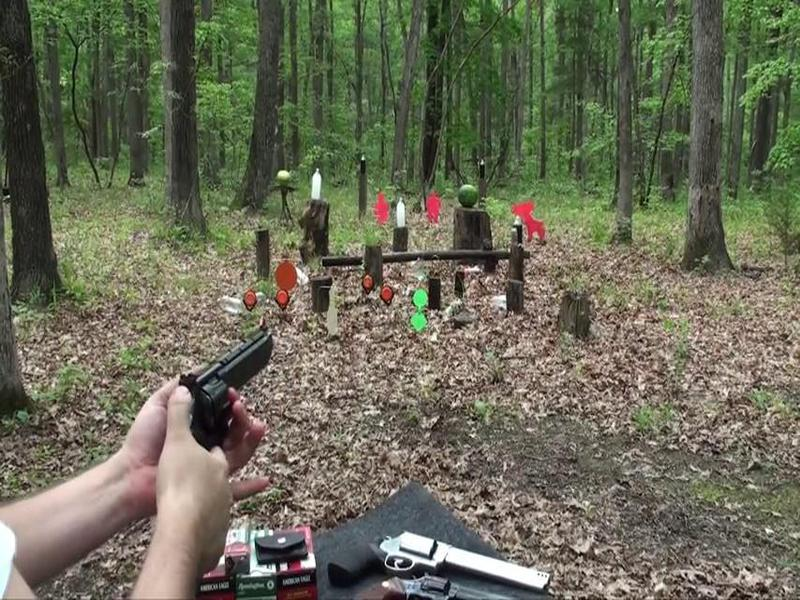Revolver: (161, 305, 279, 502)
